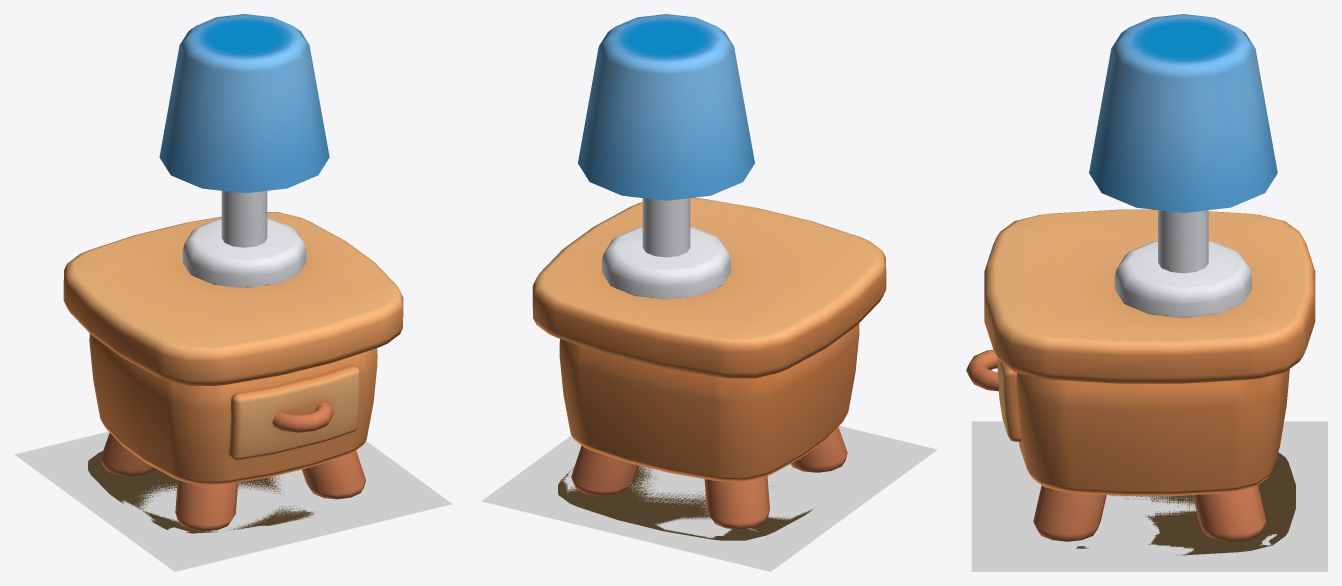
Rendered from Decor_BesideTable.fbx.
3 renders of one model, left to right at view 1: azimuth 30°, elevation 25°; view 2: azimuth 150°, elevation 25°; view 3: azimuth 270°, elevation 25°, orthographic. The views are drawn at different scales.
Visible parts, largest first — view 1: BesideTable.001, BesideTable_Grid; view 2: BesideTable.001, BesideTable_Grid; view 3: BesideTable.001, BesideTable_Grid.
Boxes of the visible parts, left/top/right/bottom form: BesideTable.001: left=63, top=14, right=403, bottom=533; BesideTable_Grid: left=14, top=431, right=452, bottom=571; BesideTable.001: left=532, top=14, right=886, bottom=540; BesideTable_Grid: left=481, top=425, right=937, bottom=571; BesideTable.001: left=966, top=14, right=1315, bottom=555; BesideTable_Grid: left=971, top=421, right=1327, bottom=571.
Size of the model in its own units: 1 by 1.46 by 1.02.
